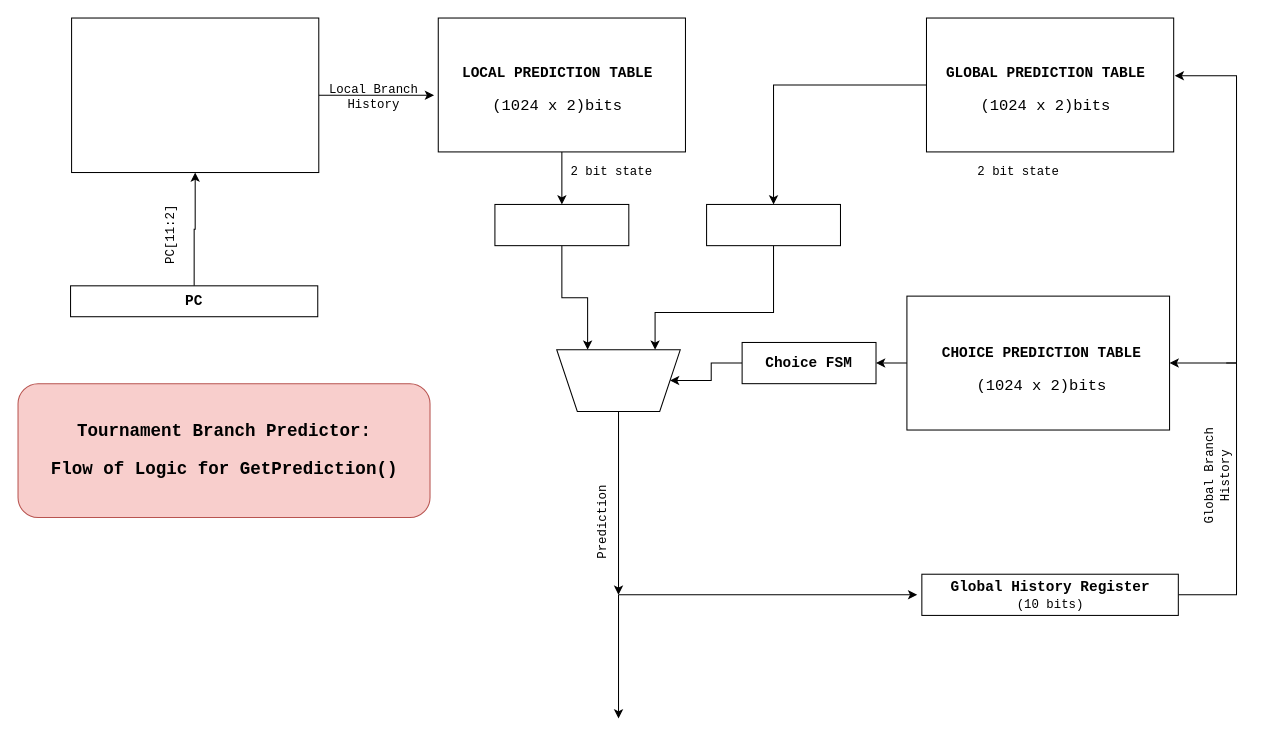
The diagram is 1263 pixels wide and 745 high, and some of its shapes have lost their labels. The shapes that lost their labels are listed below. From the top down, each one's centre as x and y in pixels, then its label:
At (195,95): "LOCAL HISTORY TABLE (1024 x 10)bits".
At (561,224): "Local FSM".
At (773,224): "Global FSM".
At (618,380): "2:1 mux".
